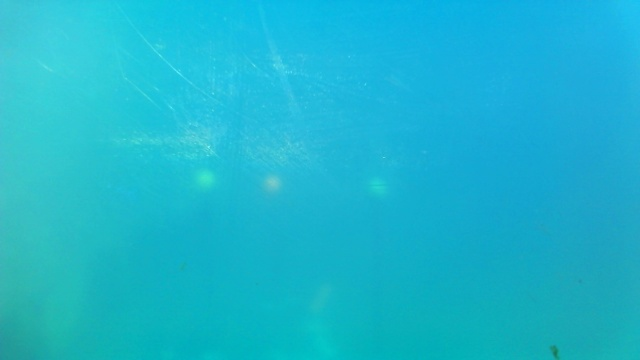buoy_red: (263, 172, 281, 190)
